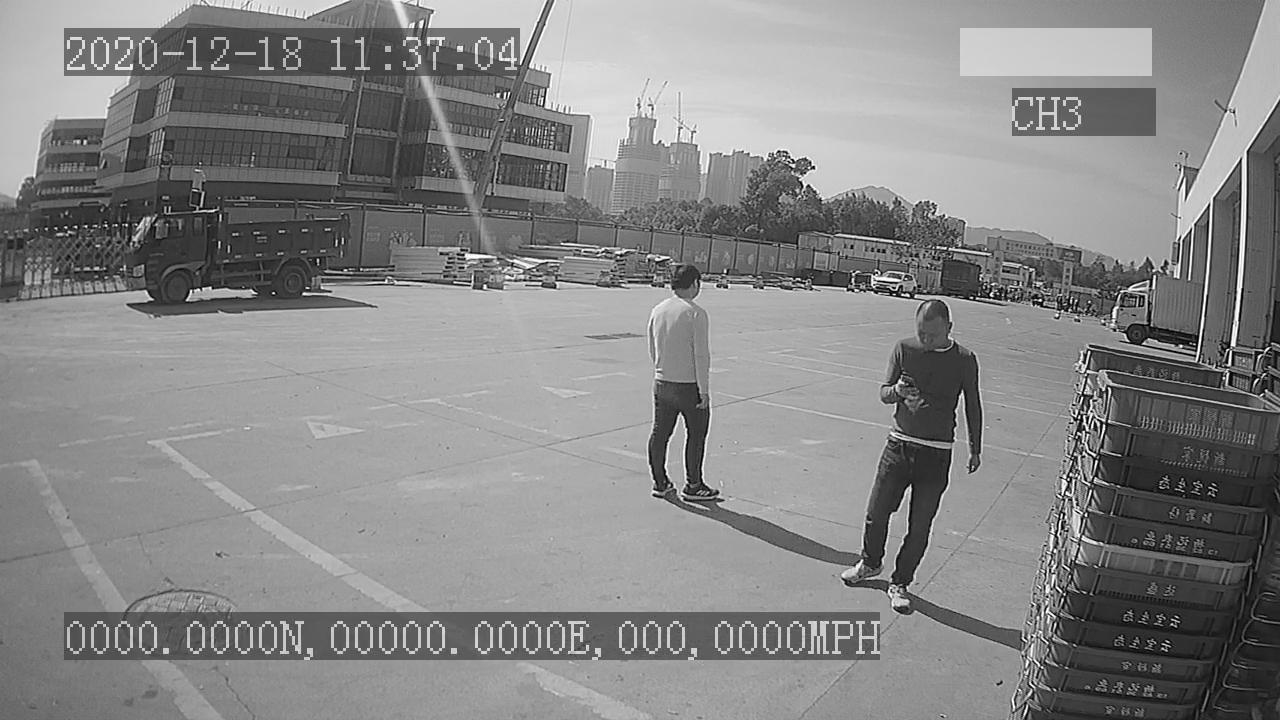person: (839, 297, 985, 612), (643, 258, 723, 511)
